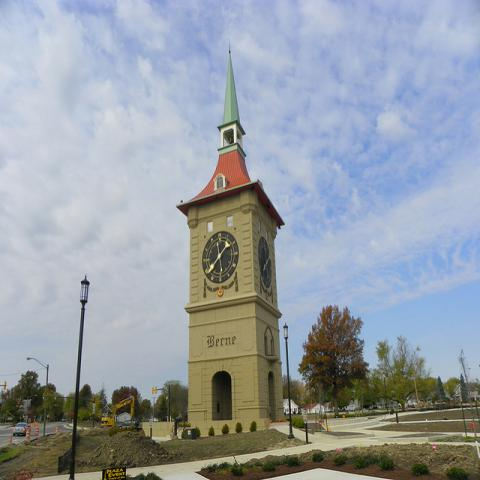car: (12, 422, 30, 437), (117, 418, 139, 430)
